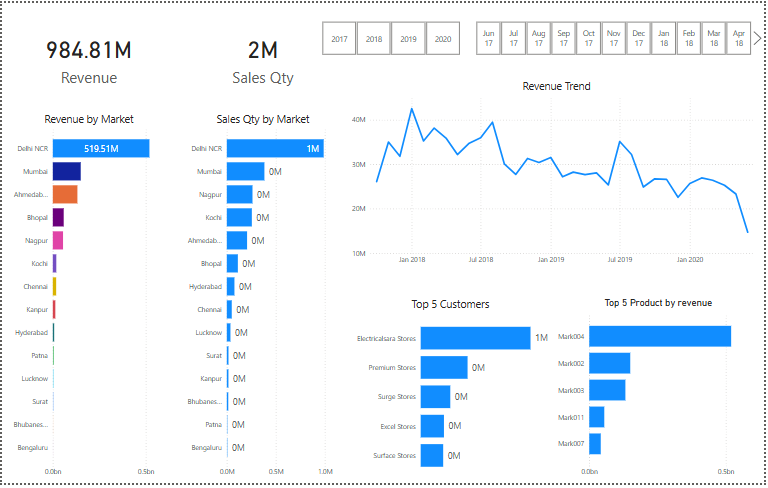

The page's visual inventory and layout, read from the dashboard file:
{"tool":"powerbi","page":{"name":"Page 1","canvas":[1350,850],"ordinal":0},"visuals":[{"type":"card","fields":{"Values":["BaseMeasure.Revenue"]},"box":[0,0,307.7,193.8],"z":0},{"type":"card","fields":{"Values":["BaseMeasure.Sales Qty"]},"box":[307.7,0,307.7,193.8],"z":1000},{"type":"barChart","title":"Revenue by Market","fields":{"Y":["BaseMeasure.Revenue"],"Category":["sales markets.markets_name"],"Series":["sales markets.markets_name"]},"box":[0,193.8,307.7,656.2],"z":2000},{"type":"barChart","title":"Sales Qty by Market","fields":{"Y":["BaseMeasure.Sales Qty"],"Category":["sales markets.markets_name"]},"box":[307.7,193.8,307.7,656.2],"z":3000},{"type":"slicer","fields":{"Values":["sales date.year"]},"box":[544,28.9,290.7,68],"z":4000},{"type":"slicer","fields":{"Values":["sales date.cy_date"]},"box":[816,28.9,533.8,68],"z":5000},{"type":"barChart","title":"Top 5 Customers","fields":{"Y":["BaseMeasure.Sales Qty"],"Category":["sales customers.custmer_name"]},"box":[614.6,521.4,359.1,328],"z":6000},{"type":"barChart","title":"Top 5 Product by revenue","fields":{"Category":["sales markets.markets_code"],"Y":["BaseMeasure.Revenue"]},"box":[973.7,521.4,376.3,328],"z":7000},{"type":"lineChart","title":"Revenue Trend","fields":{"Y":["BaseMeasure.Revenue"],"Category":["sales date.cy_date.Variation.Date Hierarchy.Year","sales date.cy_date.Variation.Date Hierarchy.Quarter","sales date.cy_date.Variation.Date Hierarchy.Month","sales date.cy_date.Variation.Date Hierarchy.Day"]},"box":[614.6,134.7,735.4,338.4],"z":8000}]}

Visuals, with their boxes in screenshot pixels (x1, y1, x2, y2), scaled from the page's 1350x850 canvas onto the 768x488 screenshot:
card - BaseMeasure.Revenue: region(0, 0, 175, 111)
card - BaseMeasure.Sales Qty: region(175, 0, 350, 111)
"Revenue by Market" barChart: region(0, 111, 175, 487)
"Sales Qty by Market" barChart: region(175, 111, 350, 487)
slicer - sales date.year: region(309, 17, 475, 56)
slicer - sales date.cy_date: region(464, 17, 767, 56)
"Top 5 Customers" barChart: region(350, 299, 554, 487)
"Top 5 Product by revenue" barChart: region(554, 299, 767, 487)
"Revenue Trend" lineChart: region(350, 77, 767, 272)
